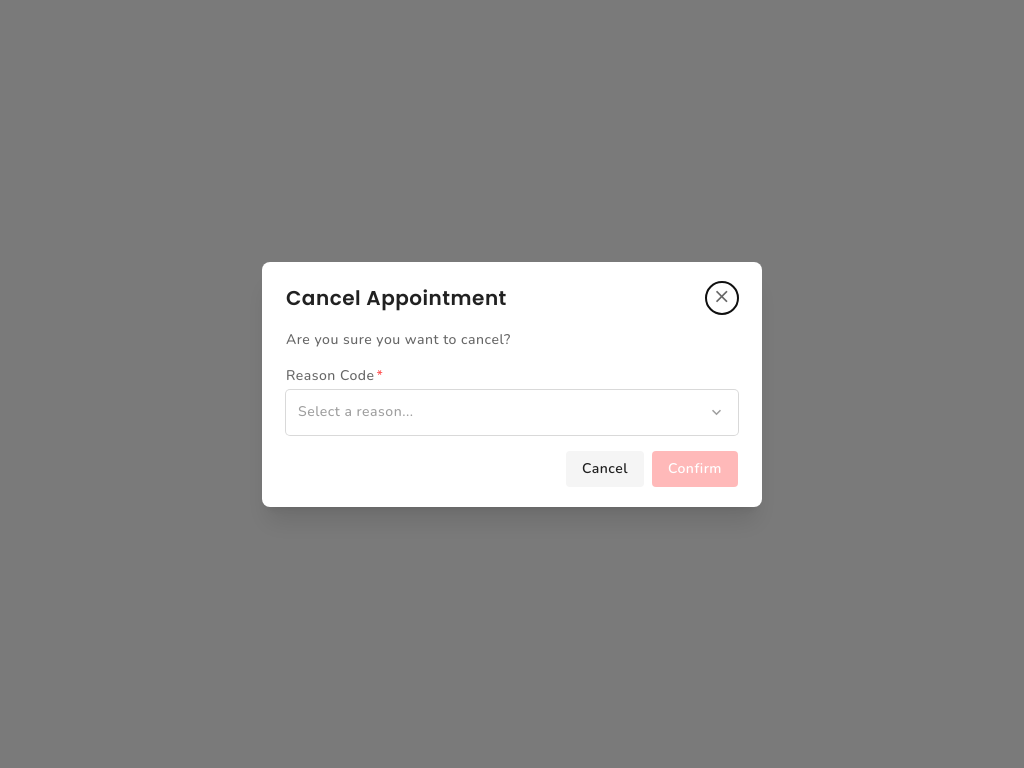
Scenario: StatusTransitionDialog › does not offer EXPIRED as a manual cancellation reason
The image size is (1024, 768).
Note: SelectInput renders its options only while open.
Click the button with aria-label "Reason Code".
click(356, 412)  # box [286,390,738,434]
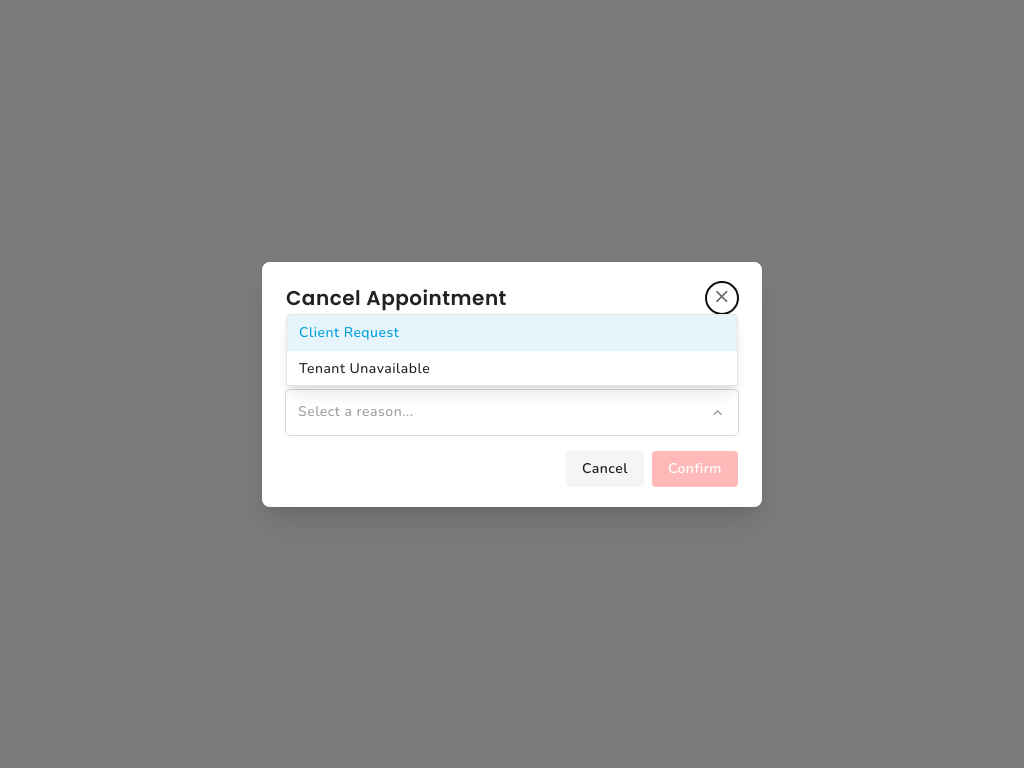
Check: the option "Client Request" is shown, box [287,314,737,350]
